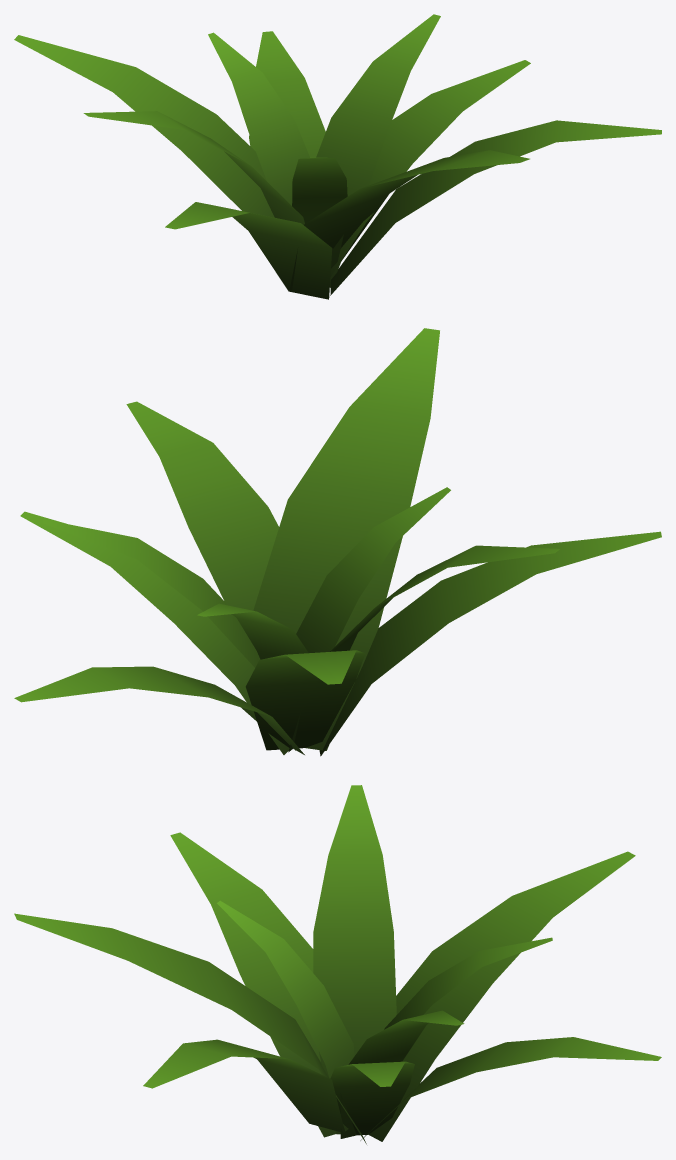
Rendered from flower02.fbx.
3 renders of one model, top to bottom at view 1: azimuth 30°, elevation 25°; view 2: azimuth 150°, elevation 25°; view 3: azimuth 270°, elevation 25°, orthographic. The views are drawn at different scales.
Parts seen in each view (by area): view 1: Clump2; view 2: Clump2; view 3: Clump2.
Boxes of the visible parts, x1,y1,x2,y2 form: Clump2: (14,14,661,299); Clump2: (14,328,661,756); Clump2: (14,785,661,1144).
Size of the model in its own units: 187 by 87.22 by 209.
